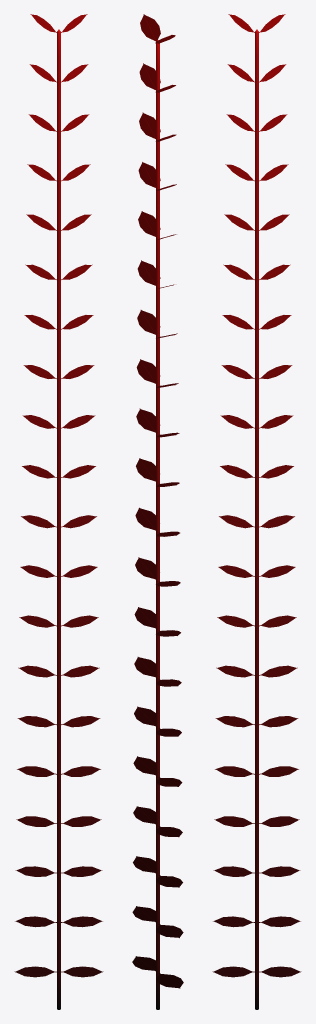
File: SM_PlantMooving_02.FBX
3 renders of one model, left to right at view 1: azimuth 90°, elevation 25°; view 2: azimuth 210°, elevation 25°; view 3: azimuth 270°, elevation 25°, orthographic.
Visible parts, largest first — view 1: Cylinder126; view 2: Cylinder126; view 3: Cylinder126.
Boxes of the visible parts, <box> form: Cylinder126: <box>14,14,103,1009</box>; Cylinder126: <box>132,14,183,1009</box>; Cylinder126: <box>212,14,301,1009</box>.
Size of the model in its own units: 2.48 by 106 by 8.66.
